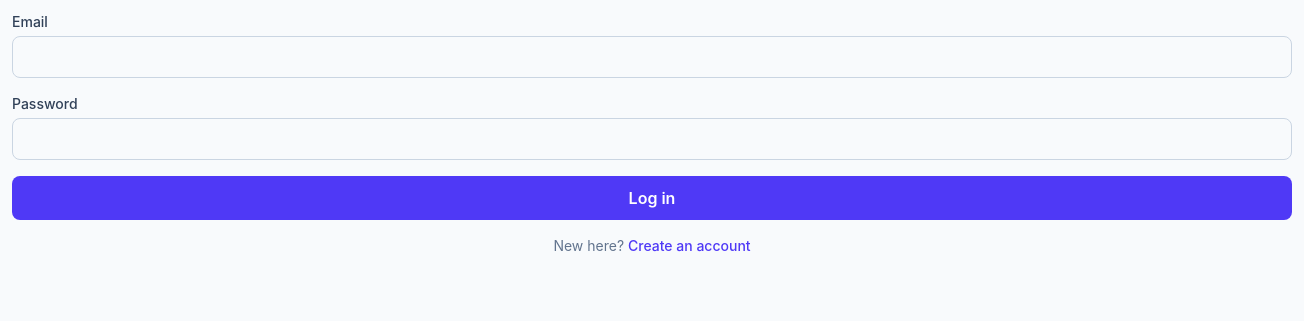
LoginForm — interaction › should show error on failed login
This screenshot has width=1304, height=321.
Step 1. Type "wrong@test.com" into the field labelled "Email" → (652, 57), box [12,36,1292,78]
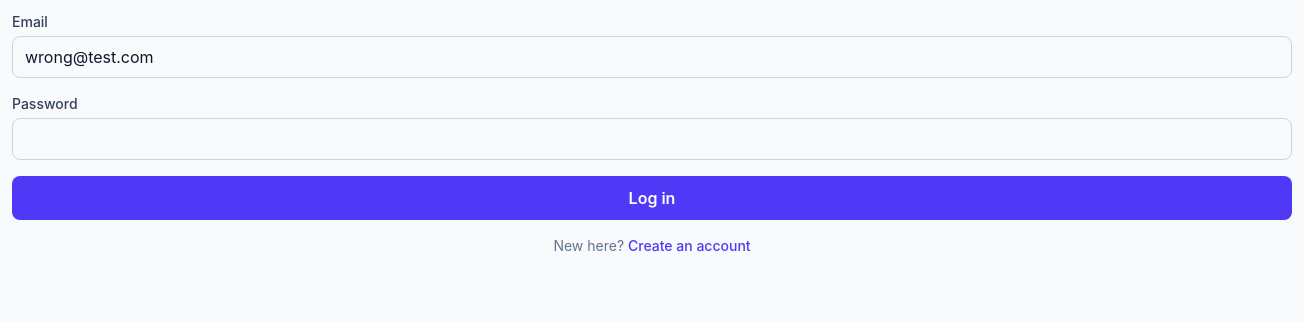
Step 2. Type "wrong" into the password field labelled "Password" → (652, 139), box [12,118,1292,160]
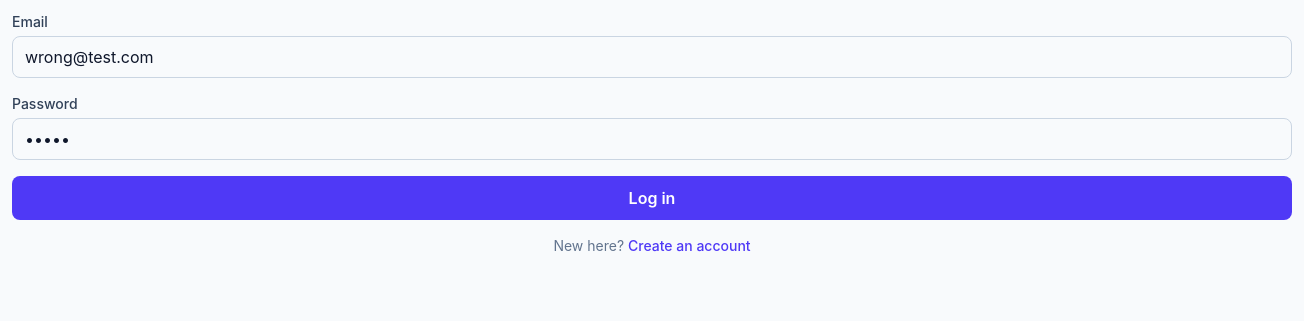
Step 3. Click the button "Log in" → click(652, 198), box [12,176,1292,220]
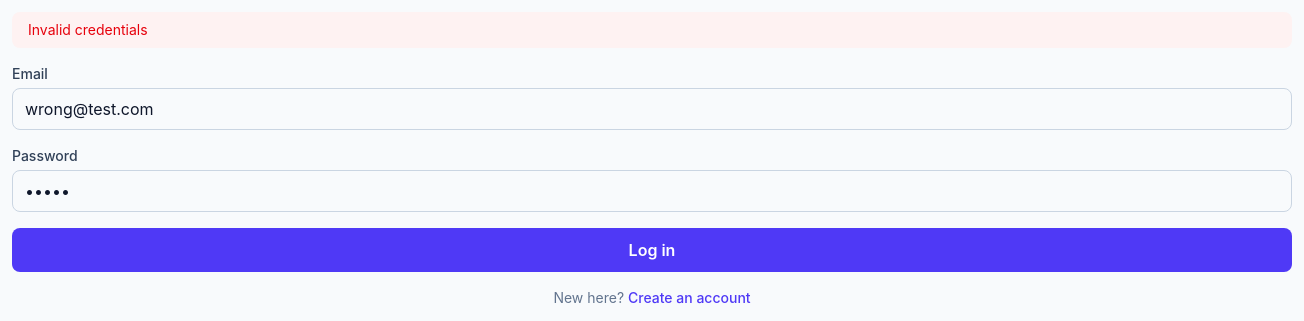
Expected: the text "Invalid credentials" is shown, [12,12,1292,48]
